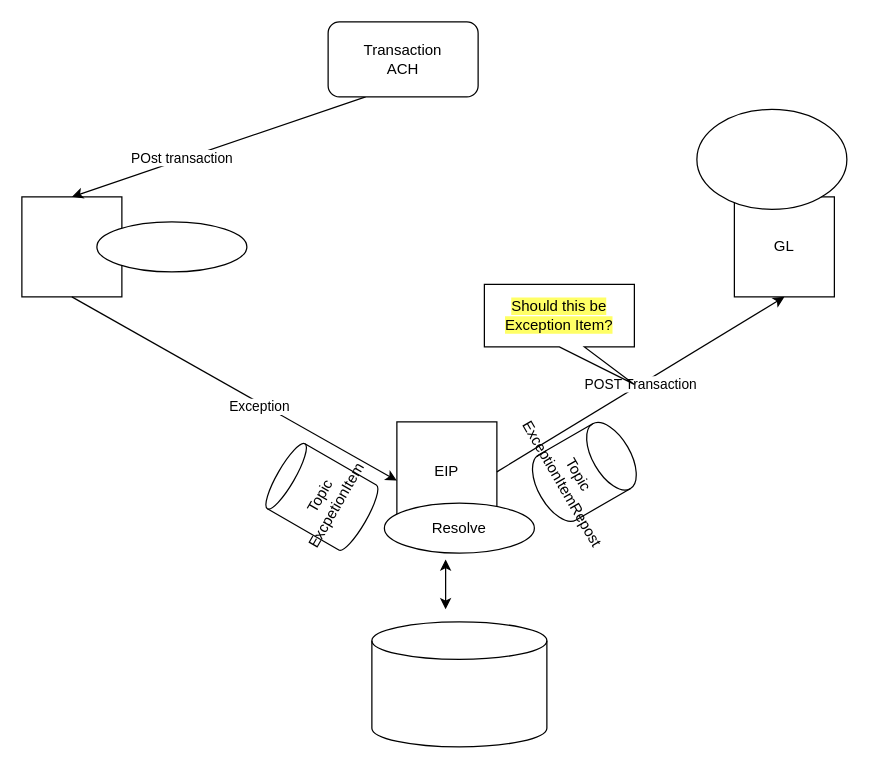
Some shapes in this 869 by 769 pixel diagram are drawn without their labels. Here are the shapes that lost their labels. From the top down, the centre of each, then its label:
At (x=771, y=158): "Process Exception Item".
At (x=71, y=246): "AS".
At (x=171, y=246): "Error Processing".
At (x=459, y=684): "Exceptions".
